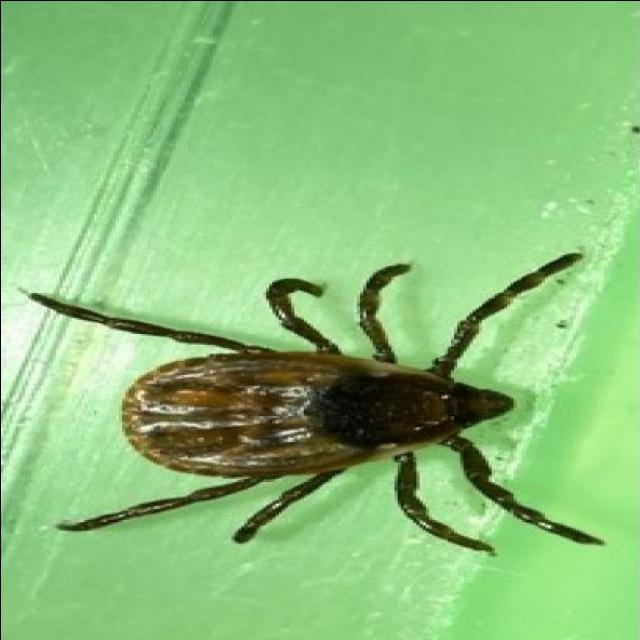Rhipicephalus Sanguineus-F: (28, 253, 607, 556)
